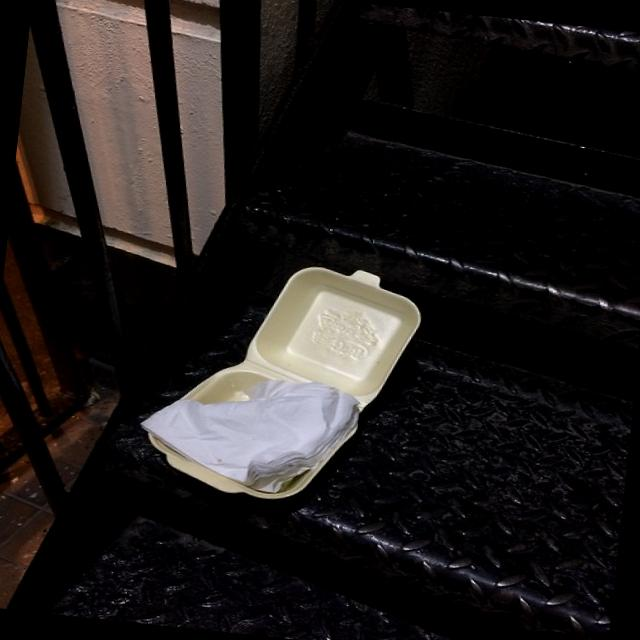Recycle: (137, 248, 421, 514)
